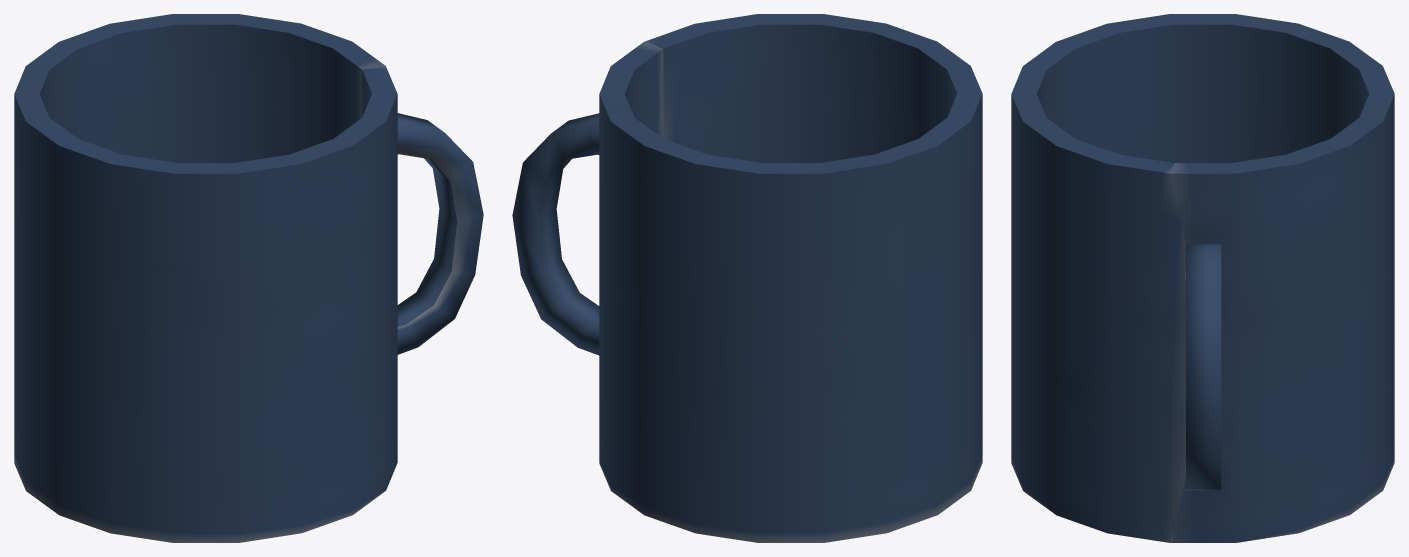
Rendered from KP_Coffee_Mug.FBX.
The picture shows the model from 3 angles, left to right: view 1: azimuth 30°, elevation 25°; view 2: azimuth 150°, elevation 25°; view 3: azimuth 270°, elevation 25°; orthographic projection.
Visible parts, largest first — view 1: KP_Coffee_Mug; view 2: KP_Coffee_Mug; view 3: KP_Coffee_Mug.
Boxes of the visible parts, x1,y1,x2,y2 form: KP_Coffee_Mug: [14, 14, 483, 542]; KP_Coffee_Mug: [512, 14, 982, 542]; KP_Coffee_Mug: [1011, 14, 1394, 542].
Bounding box in the file's own units: 12.83 × 10.46 × 9.84.
